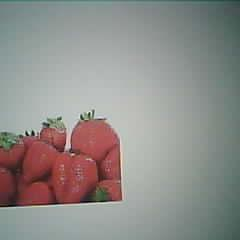straw-ripe: (53, 152, 99, 202), (71, 119, 120, 159)
